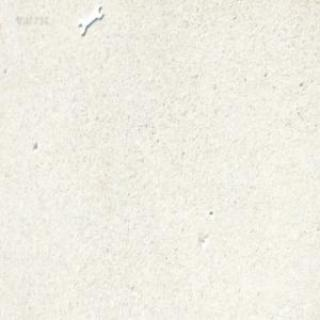Wrenchtrack_idkeyframe: (77, 10, 102, 40)
